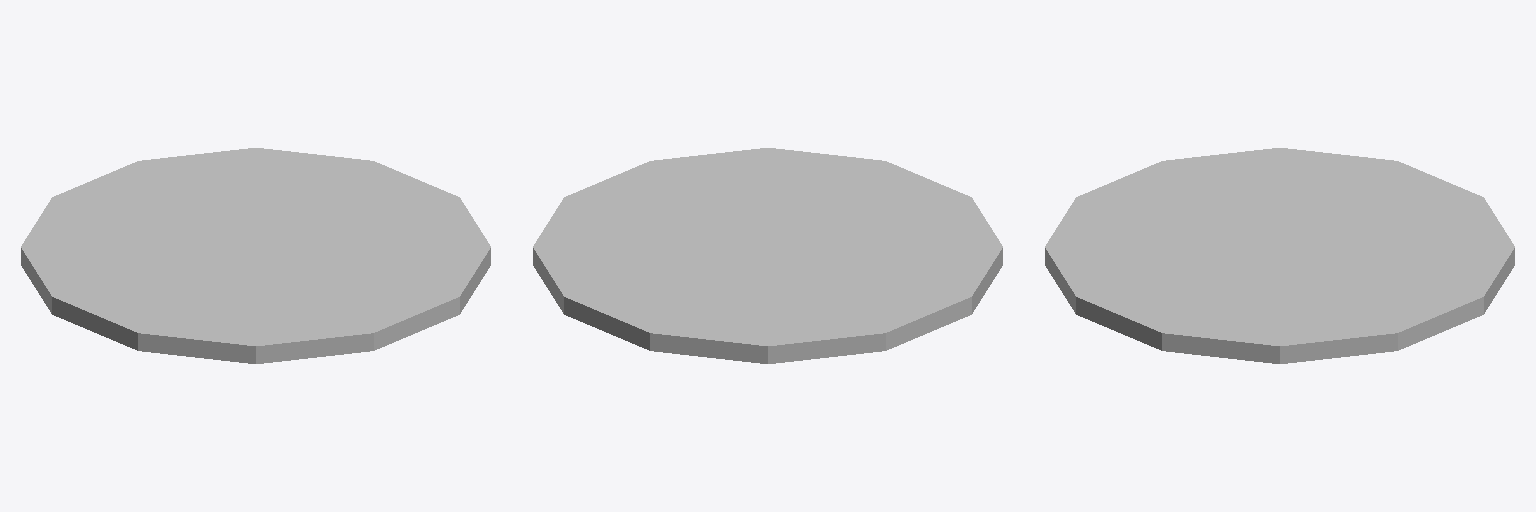
The model's file is TrackBase.obj.
3 views of the same model, side by side, from view 1: azimuth 30°, elevation 25°; view 2: azimuth 150°, elevation 25°; view 3: azimuth 270°, elevation 25° (orthographic).
Parts seen in each view (by area): view 1: default; view 2: default; view 3: default.
Boxes of the visible parts, x1,y1,x2,y2 form: default: [21, 148, 490, 363]; default: [533, 148, 1002, 363]; default: [1045, 148, 1514, 363].
Size of the model in its own units: 3.02 by 0.1271 by 3.02.